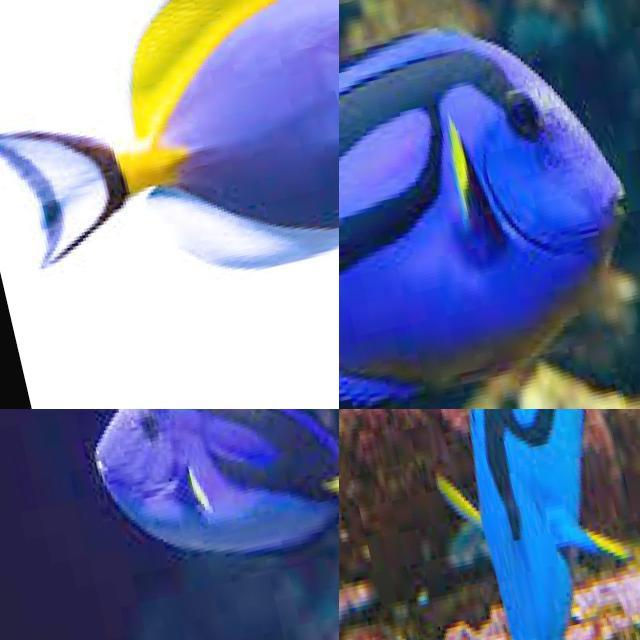BlueTang: (339, 0, 640, 409), (23, 0, 339, 294), (458, 409, 640, 640), (93, 409, 339, 551)
